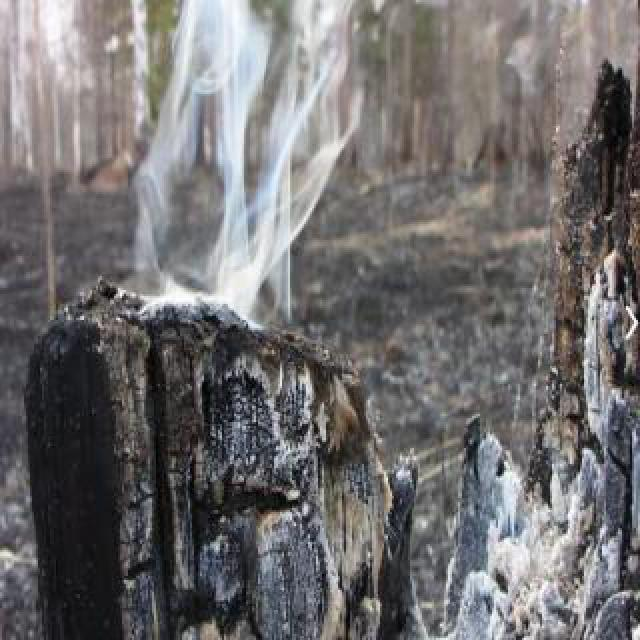Smoke: (110, 0, 362, 338)
